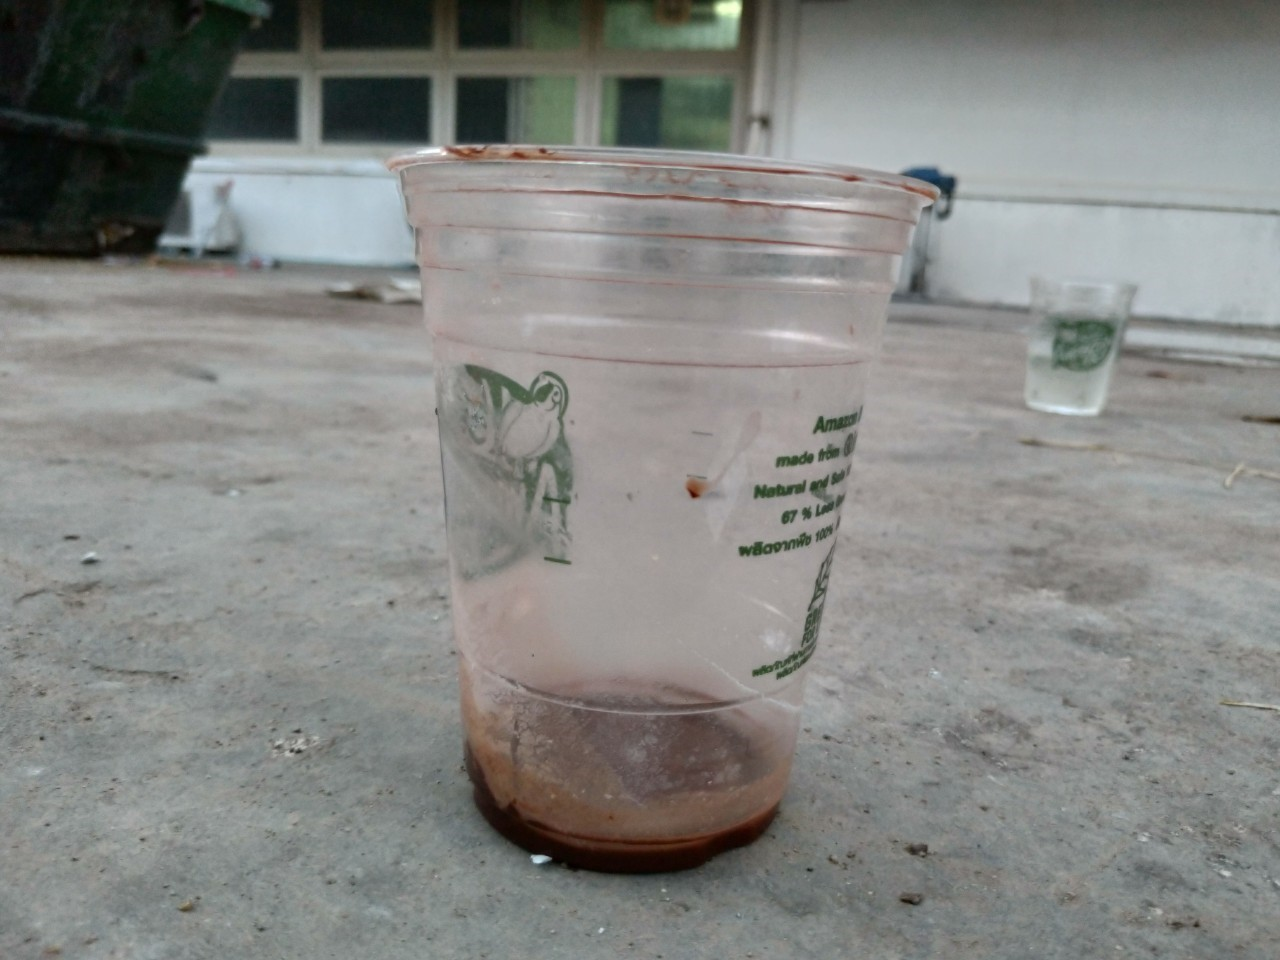PlasticCup: (382, 147, 945, 875), (1012, 265, 1140, 421)
